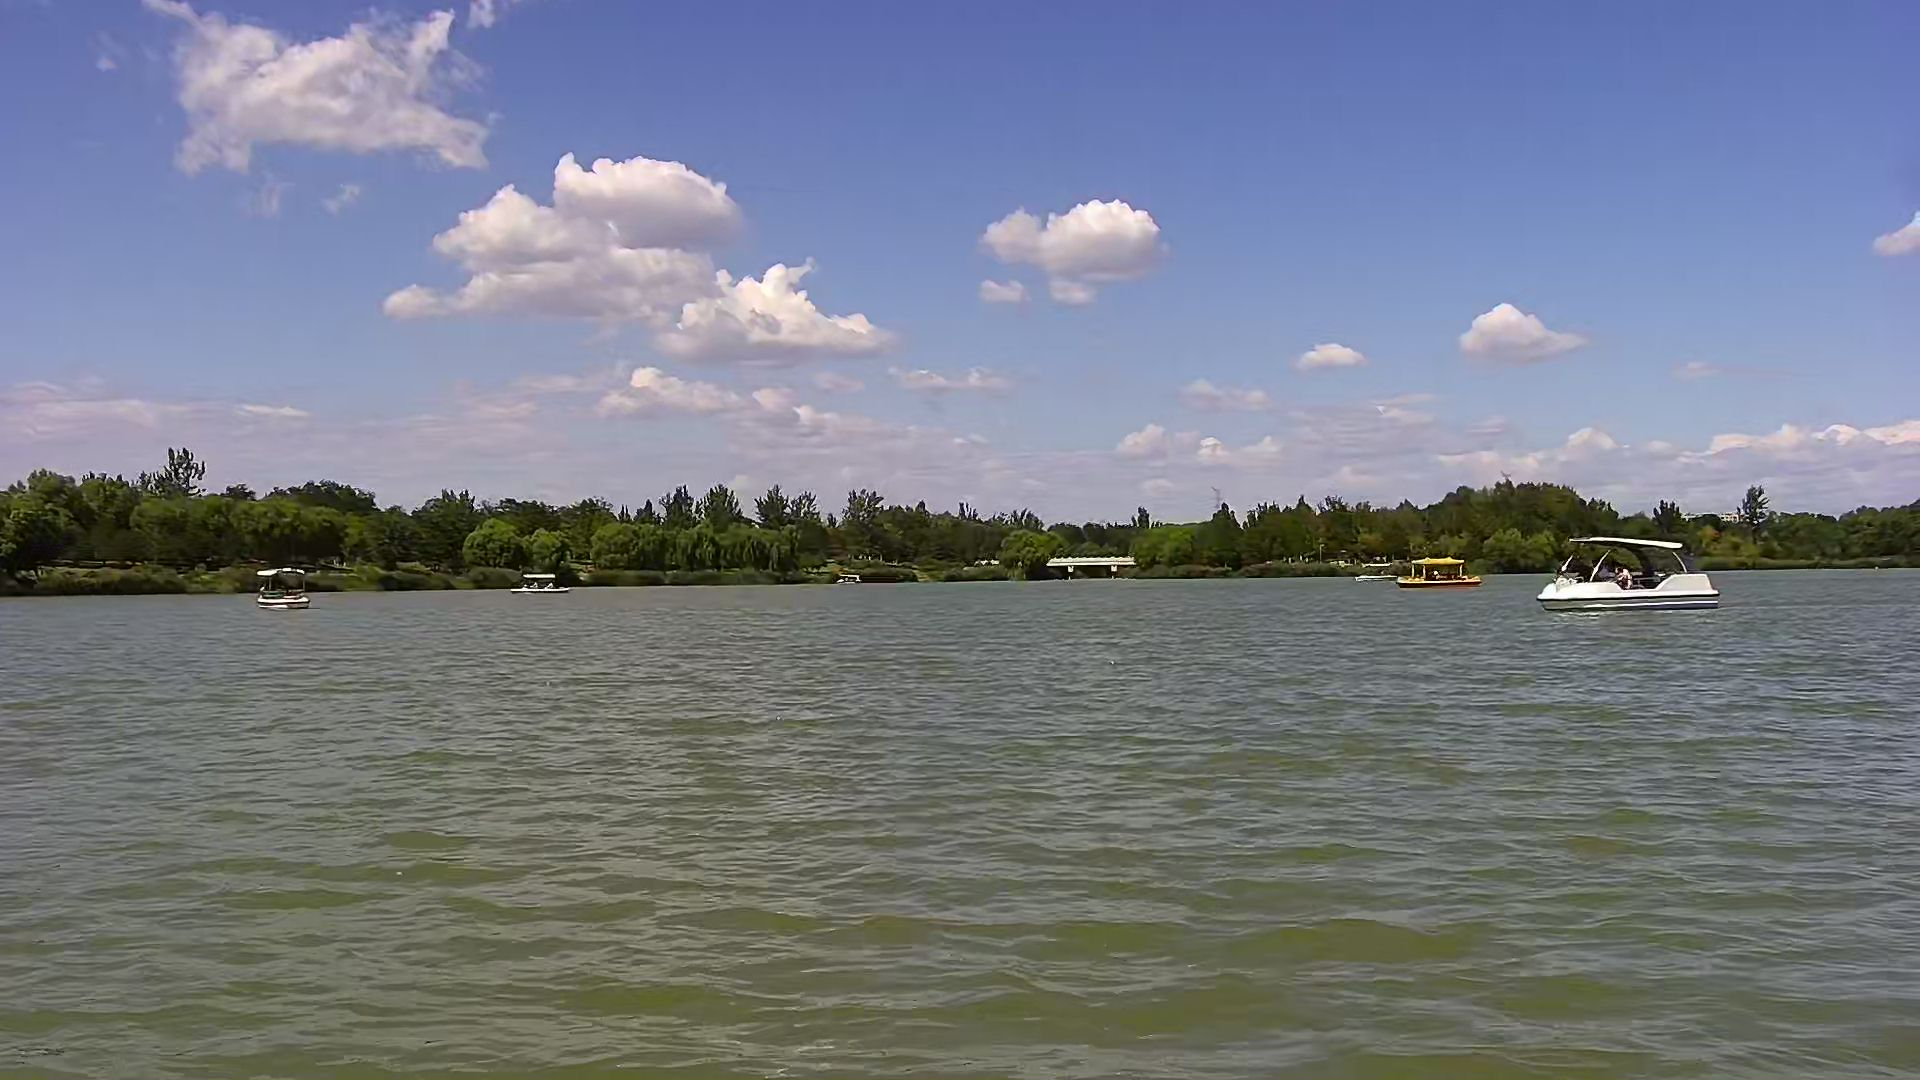boat: (1532, 537, 1718, 612), (255, 563, 306, 613), (1400, 560, 1478, 589), (512, 568, 567, 597), (1356, 560, 1389, 582)
bridge: (1040, 554, 1133, 580)
